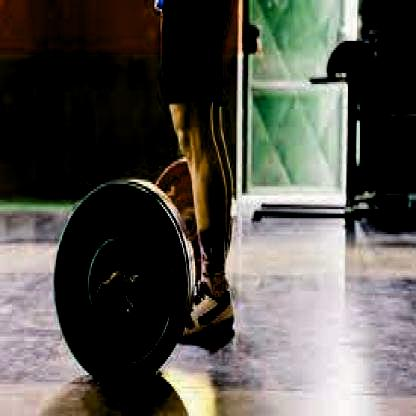Barbell: (95, 276, 115, 315)
